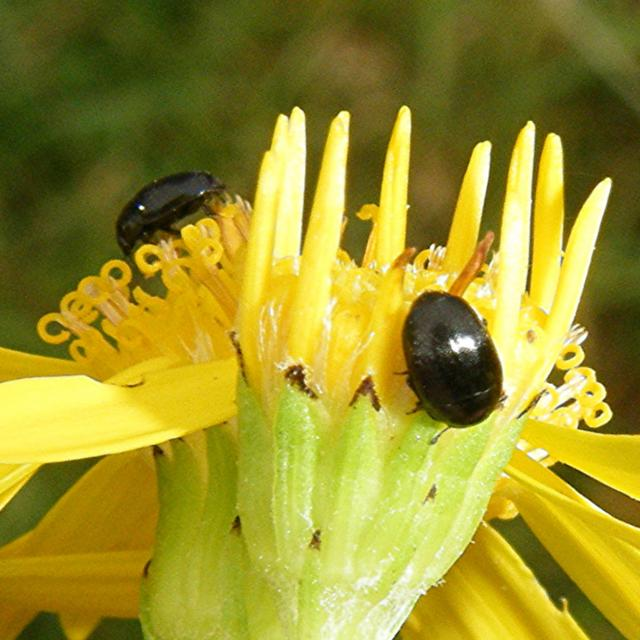pollen_beetle: (384, 281, 525, 438), (102, 154, 227, 269)
